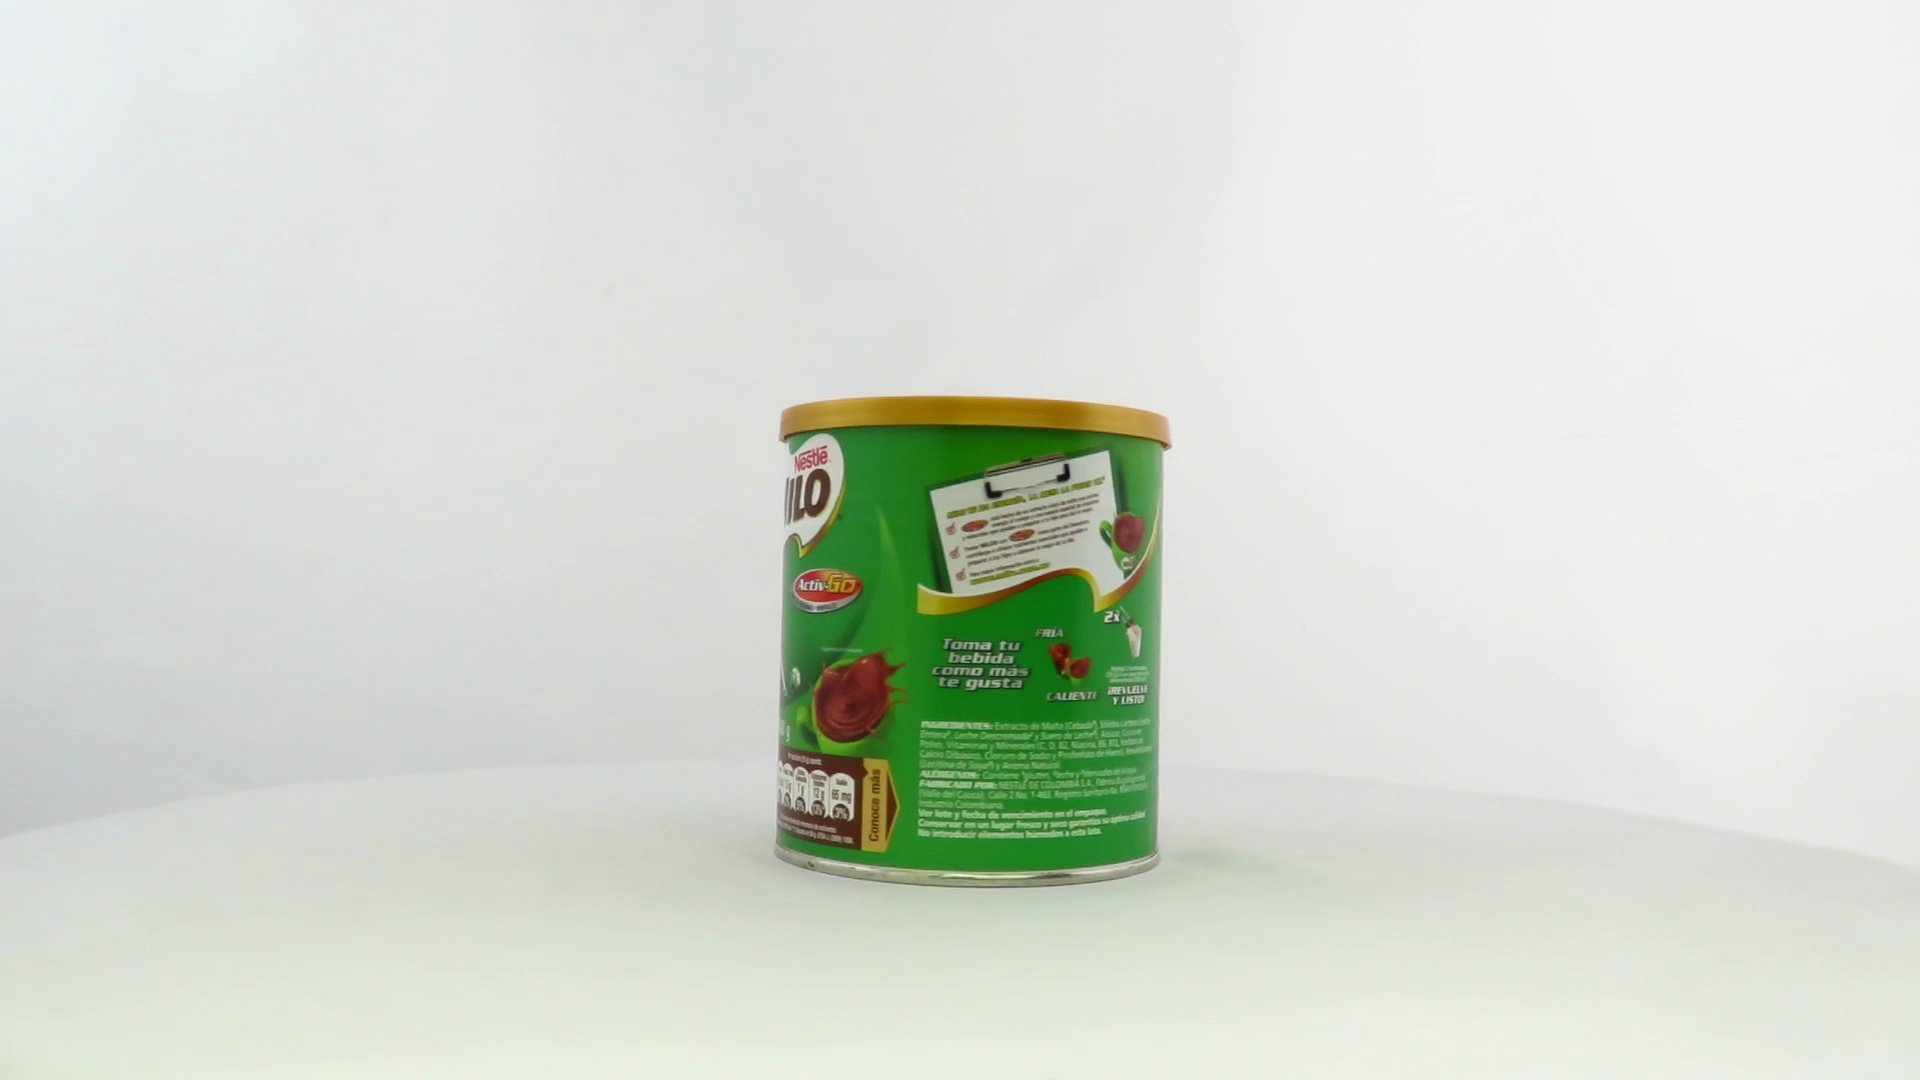COL0170203LAT40000: (767, 392, 1178, 895)
